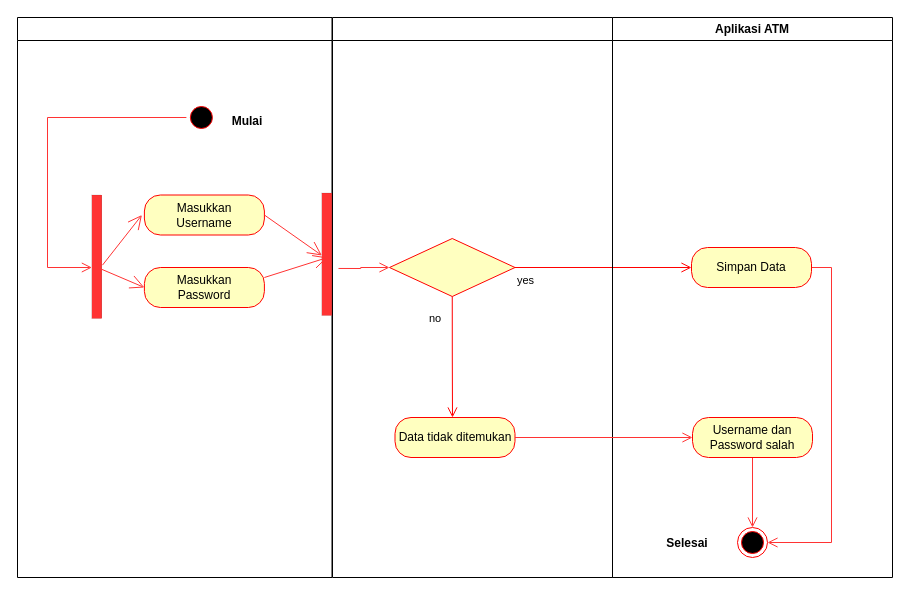
Image size: 910x595. Some labels were removed from this diagram. The box of each missing label's shape, as (x1, y1, x2, y2) in pixels:
Actor: (16, 16, 332, 578)
Control Login: (332, 16, 612, 578)
tekan simpan: (388, 238, 515, 296)
